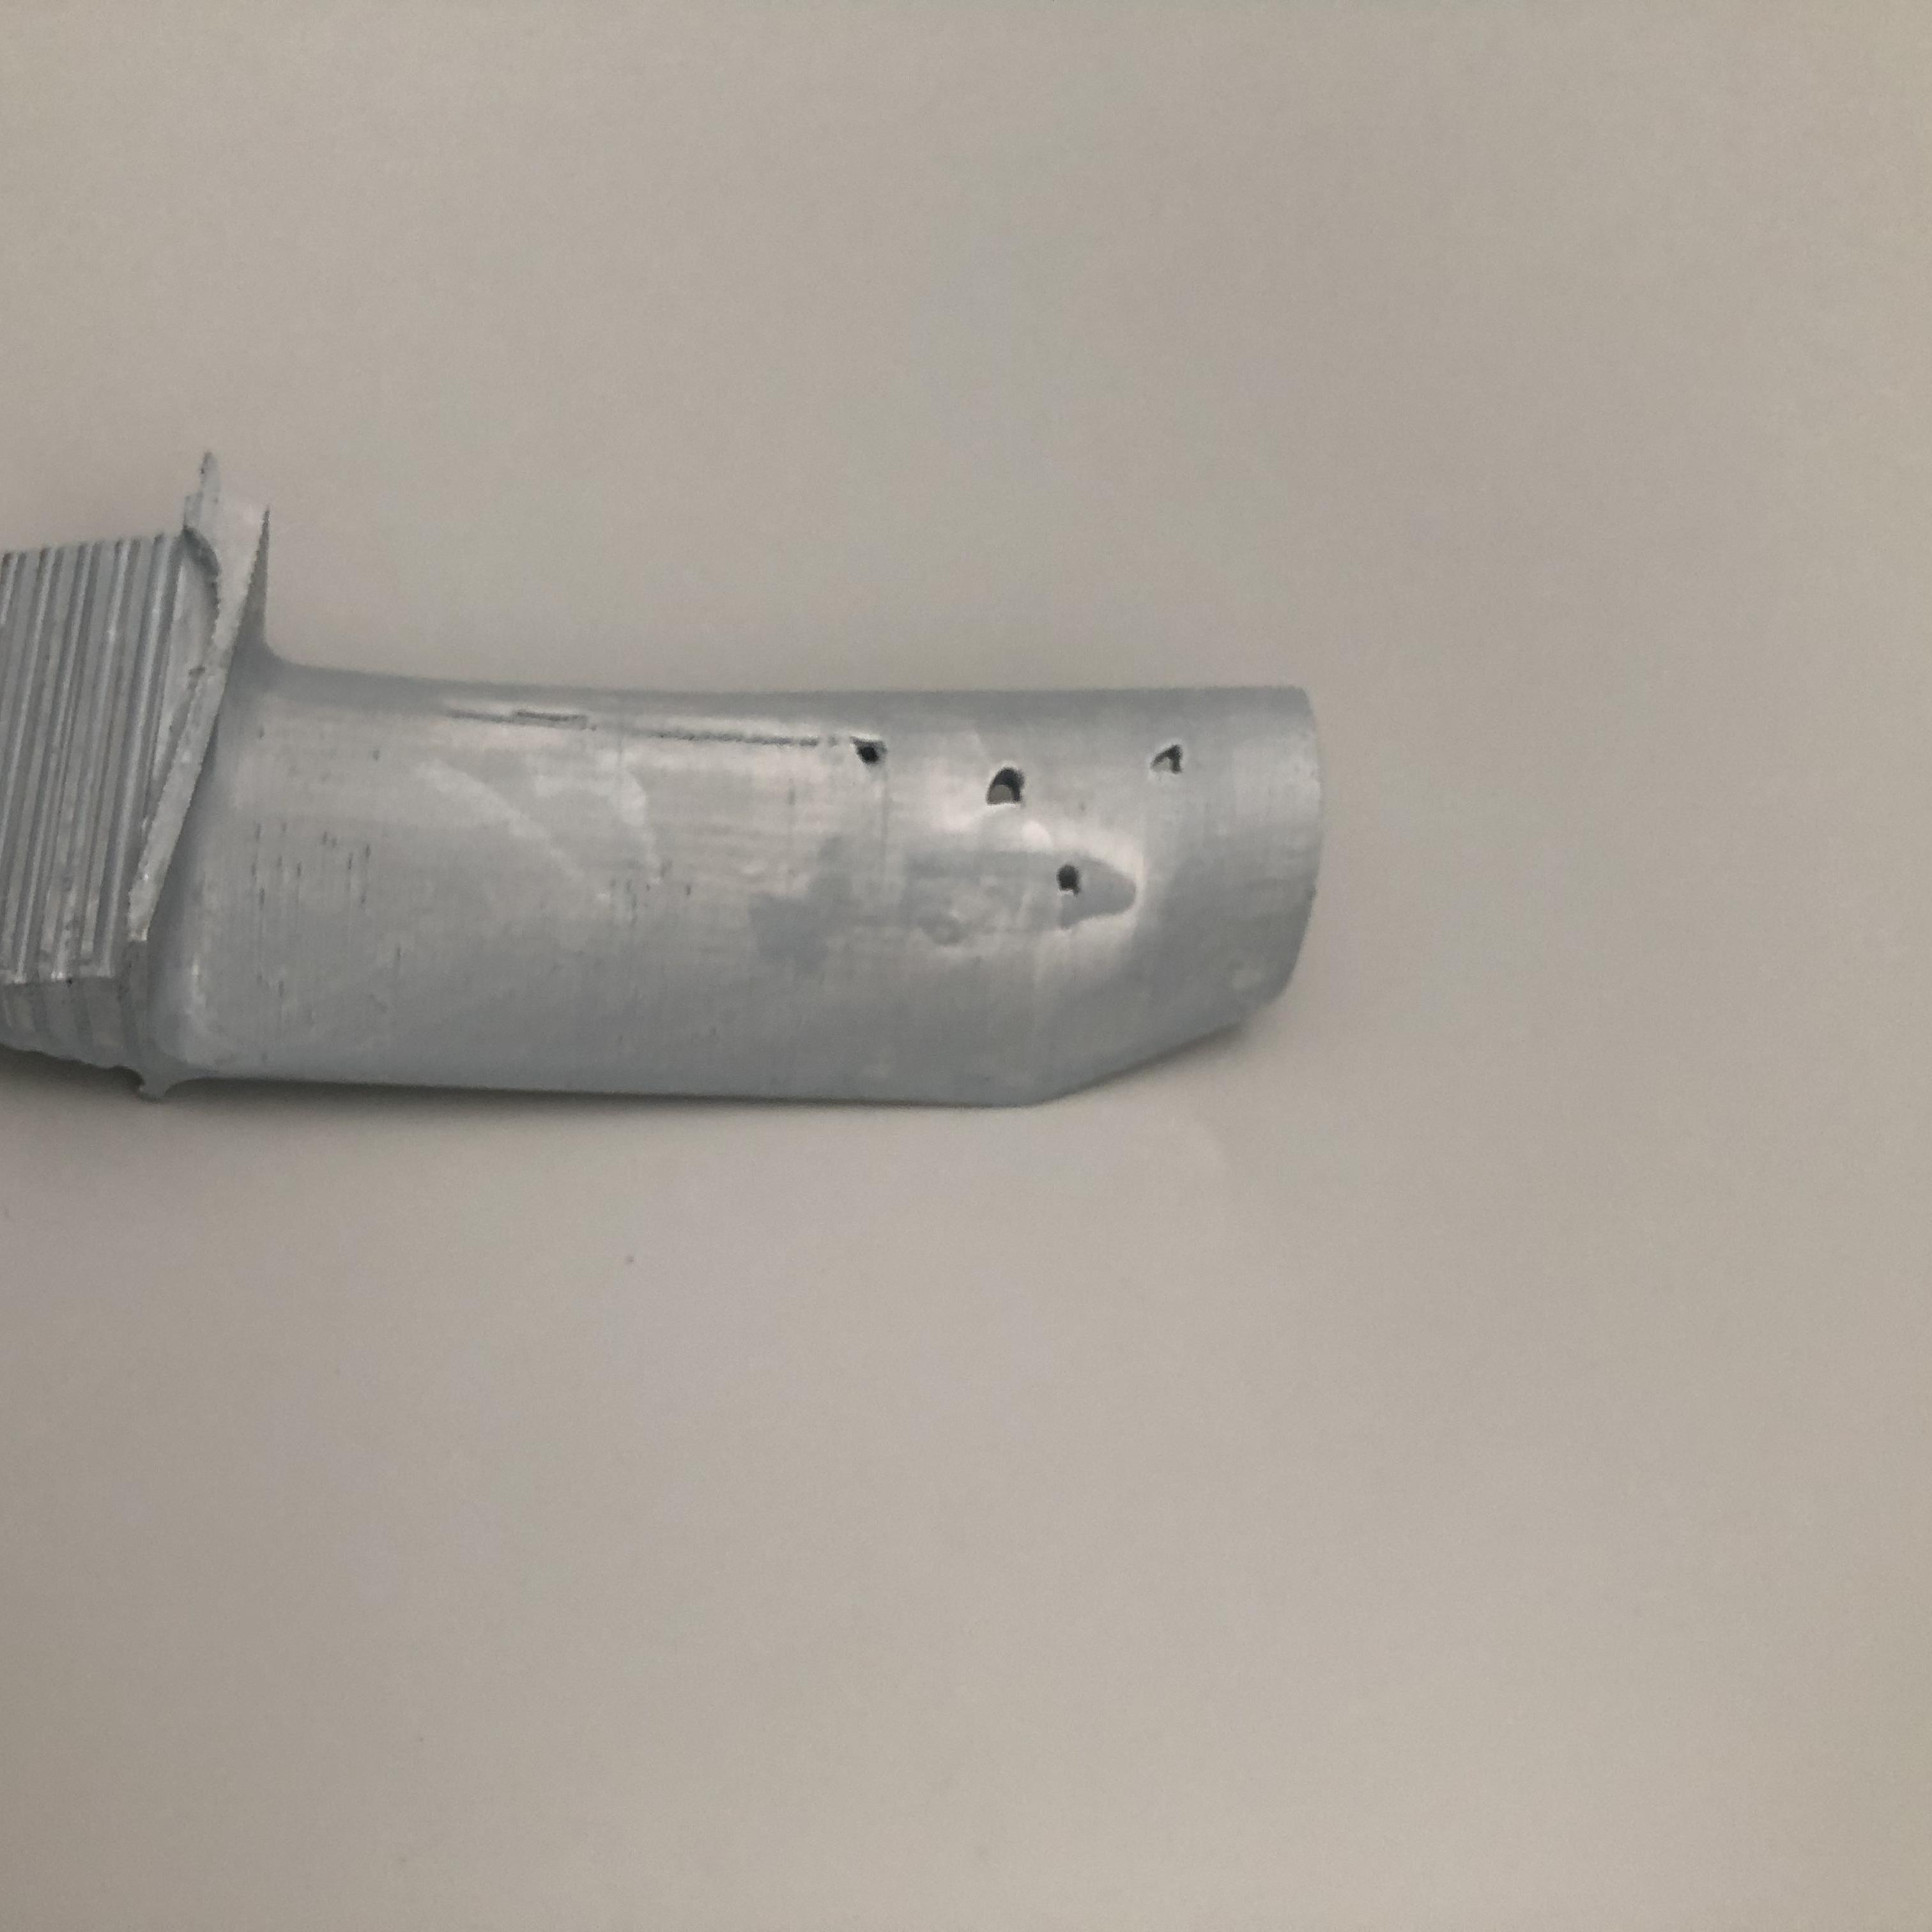breakdown: (849, 722, 1095, 911), (1145, 727, 1200, 782)
